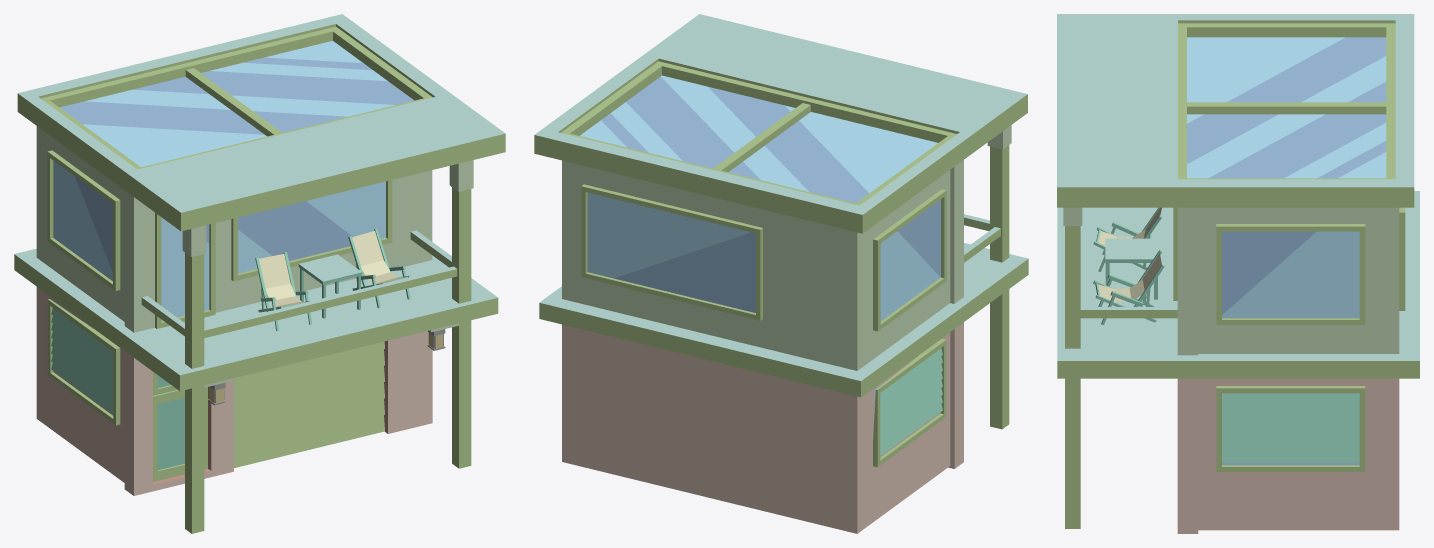
Rendered from cottage_003.glb.
3 views of the same model, side by side, from view 1: azimuth 30°, elevation 25°; view 2: azimuth 150°, elevation 25°; view 3: azimuth 270°, elevation 25° (orthographic). The views are drawn at different scales.
Visible parts, largest first — view 1: cottage_003; view 2: cottage_003; view 3: cottage_003.
Boxes of the visible parts, box(x1,y1,x2,y2) form: cottage_003: box(14, 14, 505, 533); cottage_003: box(534, 14, 1028, 533); cottage_003: box(1057, 14, 1419, 533).
Bounding box in the file's own units: 6.41 × 6.16 × 5.66.
Materials: 1 (1 with a texture image).
